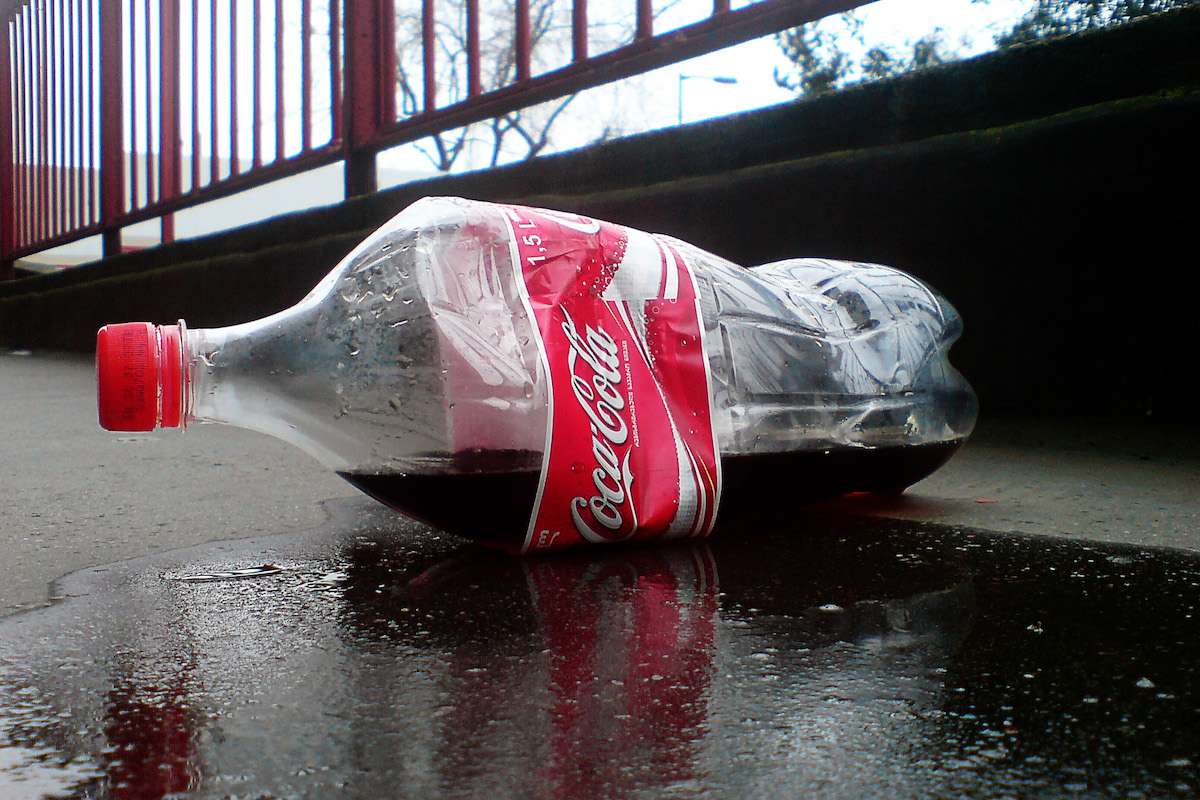plastic_bottle: (35, 64, 1079, 637)
